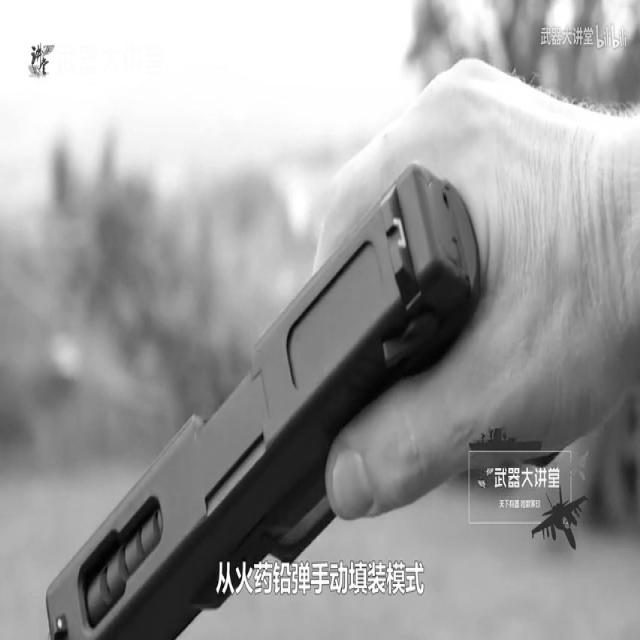Hand-Gun: (10, 128, 639, 640)
